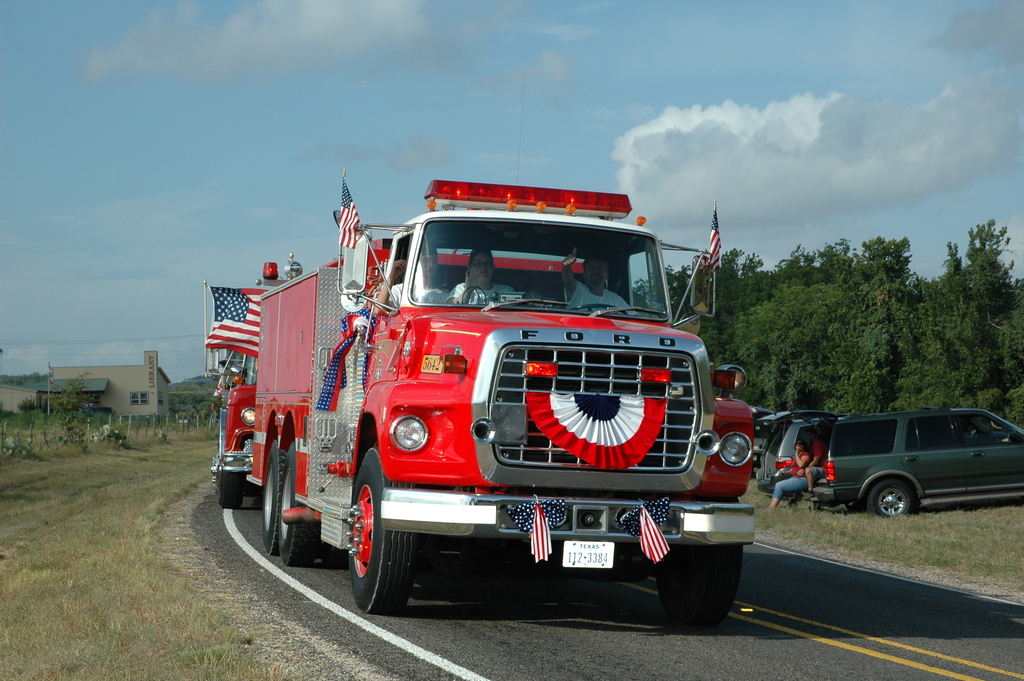car: (790, 381, 1024, 529), (758, 402, 832, 495)
truck: (161, 151, 762, 634)
